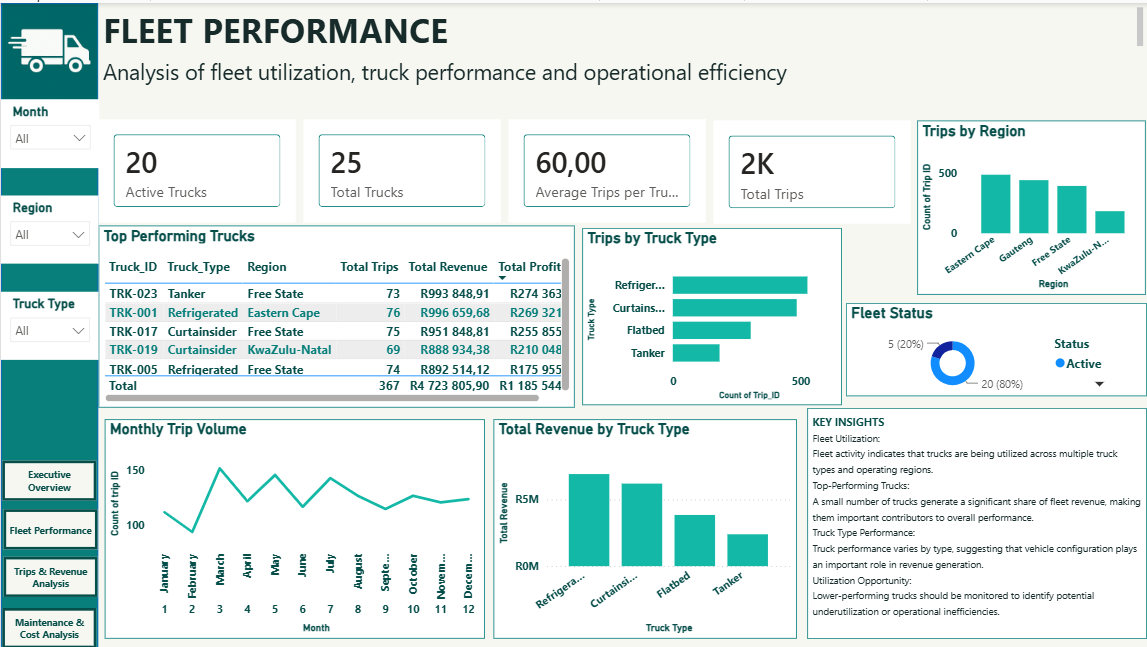

The page's visual inventory and layout, read from the dashboard file:
{"tool":"powerbi","page":{"name":"Fleet Performance","canvas":[1280,720],"ordinal":1},"visuals":[{"type":"cardVisual","fields":{"Data":["Truck_Master.Total Trucks"]},"box":[337.2,129,220,115],"z":0},{"type":"cardVisual","fields":{"Data":["Truck_Master.Active Trucks"]},"box":[108.4,129,220,115],"z":1000},{"type":"cardVisual","fields":{"Data":["Trips.Average Trips per Truck"]},"box":[565.9,129,220,115],"z":2000},{"type":"clusteredBarChart","title":"Trips by Truck Type","fields":{"Category":["Truck_Master.Truck_Type"],"Y":["CountNonNull(Trips.Trip_ID)"]},"box":[648.3,250.4,289.4,197.6],"z":3000},{"type":"clusteredColumnChart","title":"Trips by Region","fields":{"Y":["CountNonNull(Trips.Trip_ID)"],"Category":["Truck_Master.Region"]},"box":[1022.6,130.8,256,194.8],"z":4000},{"type":"lineChart","title":"Monthly Trip Volume","fields":{"Y":["CountNonNull(Trips.Trip_ID)"],"Category":["Date_Dim.Month_Number","Date_Dim.Month"]},"box":[115.5,464.7,424.3,244.9],"z":5000},{"type":"donutChart","title":"Fleet Status","fields":{"Category":["Truck_Master.Status"],"Y":["CountNonNull(Truck_Master.Truck_ID)"]},"box":[941.9,335.3,336.7,104.3],"z":6000},{"type":"clusteredColumnChart","title":"Total Revenue by Truck Type","fields":{"Category":["Truck_Master.Truck_Type"],"Y":["Trips.Total Revenue"]},"box":[549.6,464.7,338.1,244.9],"z":7000},{"type":"tableEx","title":"Top Performing Trucks","fields":{"Values":["Truck_Master.Truck_ID","Truck_Master.Truck_Type","Truck_Master.Region","Trips.Total Trips","Trips.Total Revenue","Trips.Total Profit"]},"box":[108.5,247.7,531.5,203.1],"z":8000},{"type":"shape","box":[0,0,108.4,720.4],"z":9000},{"type":"cardVisual","fields":{"Data":["Trips.Total Trips"]},"box":[794.7,130.7,220,115],"z":10000},{"type":"shape","box":[110,-0.1,1171.9,129],"z":11000},{"type":"textbox","box":[108.4,0,1171,56],"z":12000},{"type":"textbox","box":[108.4,56.3,794,72],"z":13000},{"type":"image","box":[0,1.4,108.4,105.7],"z":14000},{"type":"textbox","box":[898.8,452.2,379.8,257.4],"z":15000},{"type":"actionButton","box":[1.4,510.3,105,45],"z":16000},{"type":"actionButton","box":[2.8,564.7,105,45],"z":17000},{"type":"actionButton","box":[2.8,617.7,105,45],"z":18000},{"type":"actionButton","box":[1.4,675,105,45],"z":19000},{"type":"slicer","fields":{"Values":["Date_Dim.Month"]},"box":[0,107.1,109.9,76.5],"z":20000},{"type":"slicer","fields":{"Values":["Truck_Master.Region"]},"box":[0,215.2,109,76],"z":21000},{"type":"slicer","fields":{"Values":["Truck_Master.Truck_Type"]},"box":[0,322.8,109,76],"z":22000}]}

Visuals, with their boxes on the page's 1280x720 design canvas (x1, y1, x2, y2). These are canvas units, not pixel positions in the 1147x647 screenshot, which may show the page scaled, cropped or inside an application window:
cardVisual - Truck_Master.Total Trucks: [x1=337, y1=129, x2=557, y2=244]
cardVisual - Truck_Master.Active Trucks: [x1=108, y1=129, x2=328, y2=244]
cardVisual - Trips.Average Trips per Truck: [x1=566, y1=129, x2=786, y2=244]
"Trips by Truck Type" clusteredBarChart: [x1=648, y1=250, x2=938, y2=448]
"Trips by Region" clusteredColumnChart: [x1=1023, y1=131, x2=1279, y2=326]
"Monthly Trip Volume" lineChart: [x1=116, y1=465, x2=540, y2=710]
"Fleet Status" donutChart: [x1=942, y1=335, x2=1279, y2=440]
"Total Revenue by Truck Type" clusteredColumnChart: [x1=550, y1=465, x2=888, y2=710]
"Top Performing Trucks" tableEx: [x1=108, y1=248, x2=640, y2=451]
shape: [x1=0, y1=0, x2=108, y2=720]
cardVisual - Trips.Total Trips: [x1=795, y1=131, x2=1015, y2=246]
shape: [x1=110, y1=0, x2=1282, y2=129]
textbox: [x1=108, y1=0, x2=1279, y2=56]
textbox: [x1=108, y1=56, x2=902, y2=128]
image: [x1=0, y1=1, x2=108, y2=107]
textbox: [x1=899, y1=452, x2=1279, y2=710]
actionButton: [x1=1, y1=510, x2=106, y2=555]
actionButton: [x1=3, y1=565, x2=108, y2=610]
actionButton: [x1=3, y1=618, x2=108, y2=663]
actionButton: [x1=1, y1=675, x2=106, y2=720]
slicer - Date_Dim.Month: [x1=0, y1=107, x2=110, y2=184]
slicer - Truck_Master.Region: [x1=0, y1=215, x2=109, y2=291]
slicer - Truck_Master.Truck_Type: [x1=0, y1=323, x2=109, y2=399]
